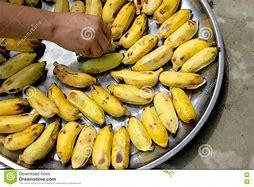banana: (45, 58, 111, 102), (0, 94, 48, 154), (127, 108, 168, 153), (91, 124, 131, 169), (56, 124, 90, 165), (184, 48, 224, 79), (171, 84, 204, 120), (157, 90, 184, 130), (78, 52, 122, 73), (110, 82, 150, 104), (159, 69, 198, 89), (112, 67, 159, 81)
